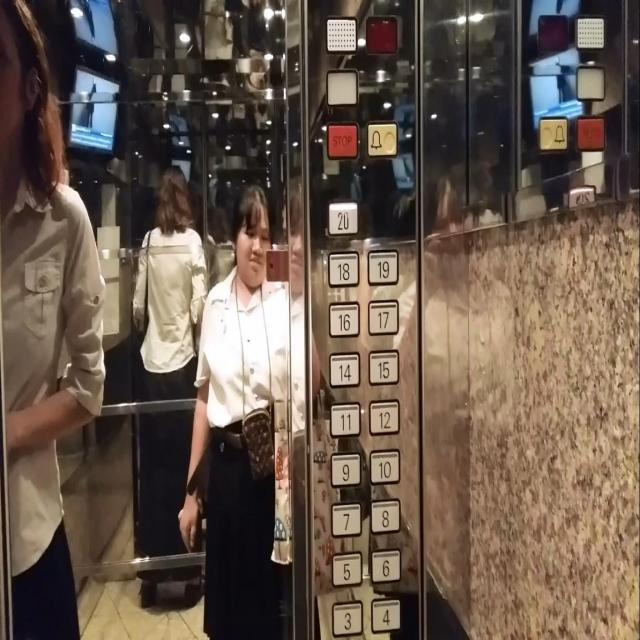10: (369, 448, 400, 484)
11: (330, 402, 360, 436)
12: (369, 400, 399, 435)
14: (329, 352, 359, 386)
15: (368, 350, 399, 385)
16: (328, 301, 359, 336)
17: (368, 299, 398, 334)
18: (328, 252, 359, 285)
19: (367, 250, 398, 283)
20: (327, 202, 358, 235)
3: (332, 601, 362, 636)
4: (370, 598, 401, 632)
5: (331, 551, 362, 586)
6: (371, 548, 401, 584)
7: (331, 502, 361, 536)
8: (370, 498, 401, 534)
9: (330, 452, 360, 486)
alarm: (367, 122, 397, 156), (538, 116, 568, 149)
blur: (575, 118, 606, 152)
empty: (537, 13, 570, 52), (365, 15, 398, 53), (326, 69, 358, 104), (575, 64, 606, 99)
speaker: (326, 16, 357, 51), (574, 14, 605, 49)
text_stop: (327, 122, 358, 158)
